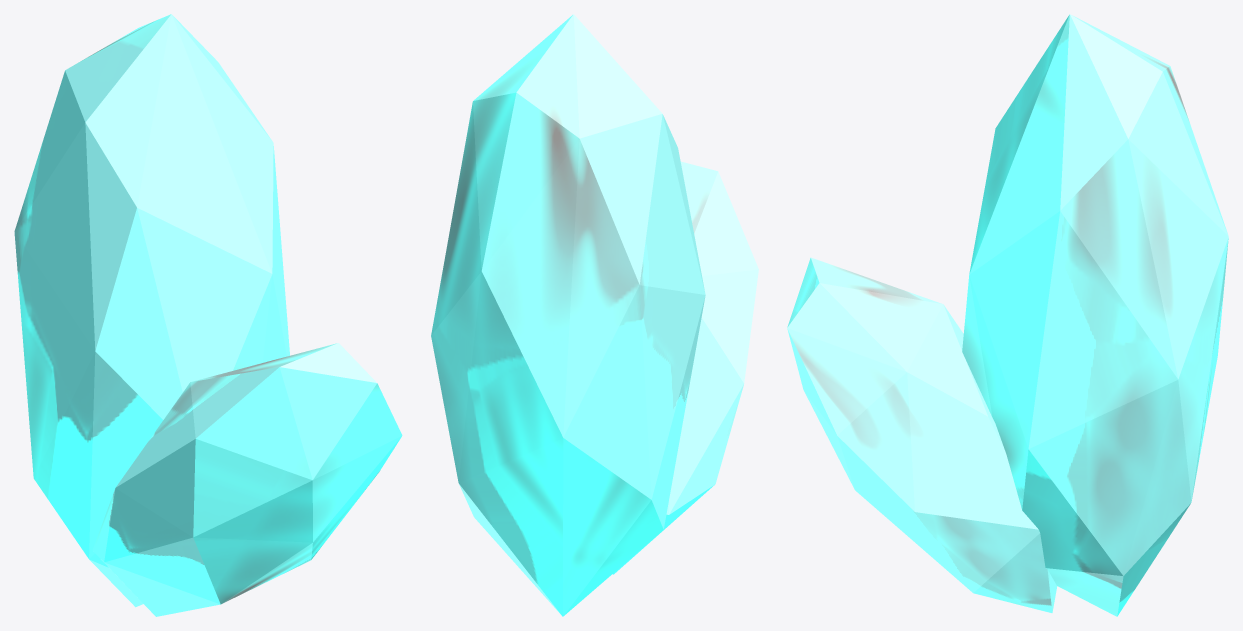
The model's file is crystal-1.glb.
The picture shows the model from 3 angles, left to right: view 1: azimuth 30°, elevation 25°; view 2: azimuth 150°, elevation 25°; view 3: azimuth 270°, elevation 25°; orthographic projection. The views are drawn at different scales.
Parts seen in each view (by area): view 1: Icosphere.003; view 2: Icosphere.003; view 3: Icosphere.003.
Part boxes in pixels (<box>): Icosphere.003: <box>14,14,402,616</box>; Icosphere.003: <box>431,14,758,616</box>; Icosphere.003: <box>787,14,1228,616</box>.
Bounding box in the file's own units: 2.07 × 4.85 × 3.19.
